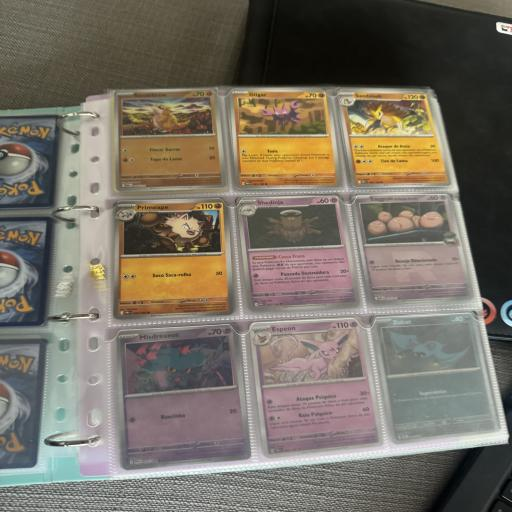card: (112, 323, 252, 471), (249, 311, 384, 459), (371, 301, 499, 450), (349, 174, 474, 318), (336, 75, 452, 202), (111, 199, 233, 319), (236, 194, 361, 308), (229, 82, 342, 195), (113, 88, 227, 192)
